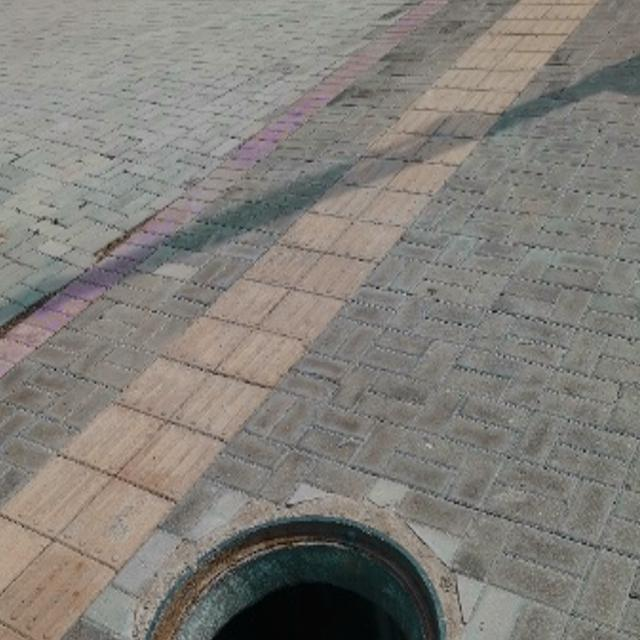lose: (135, 512, 445, 640)
